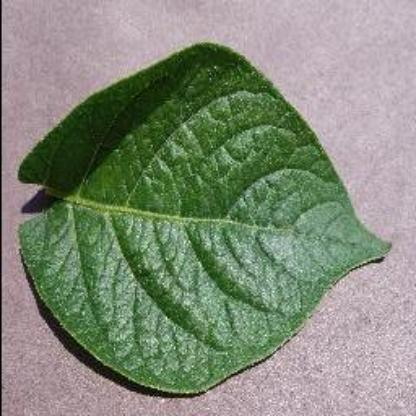Healthy-plant: (13, 35, 392, 398)
